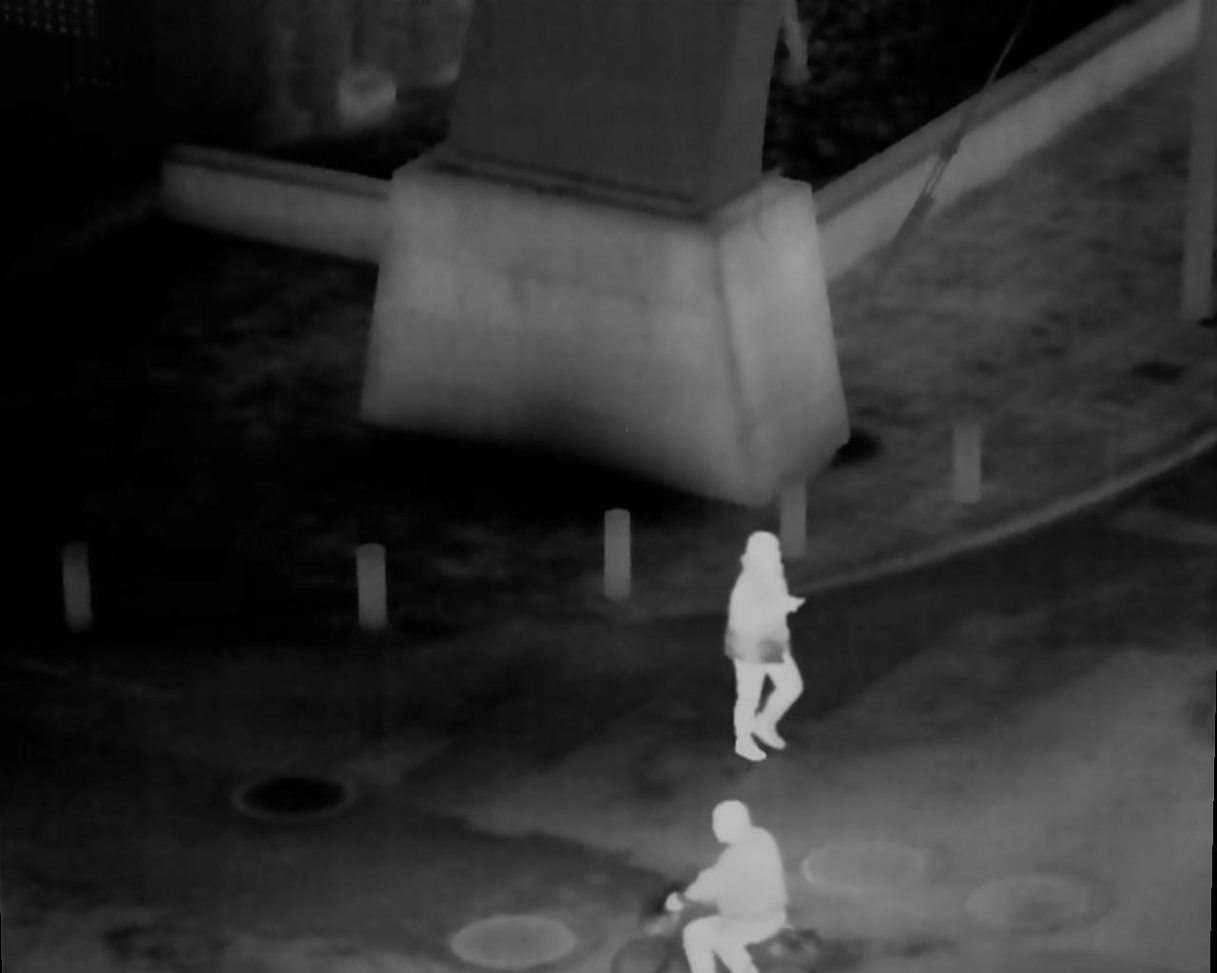person: (671, 796, 783, 973), (724, 529, 808, 761)
